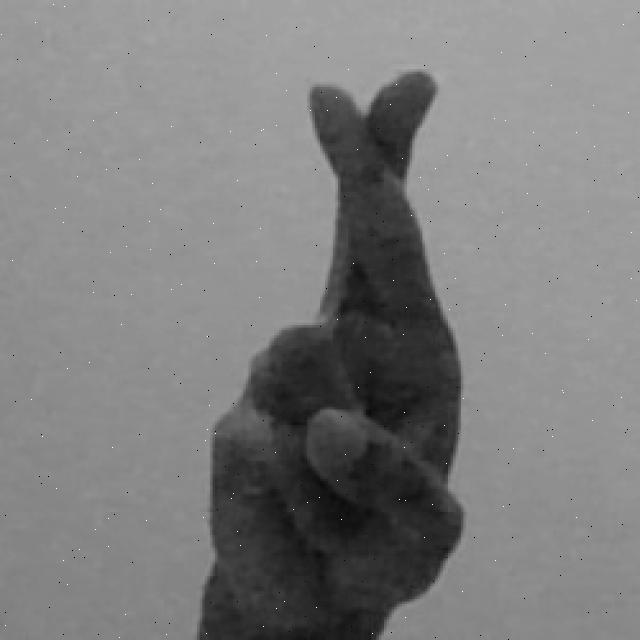R: (184, 64, 474, 640)
